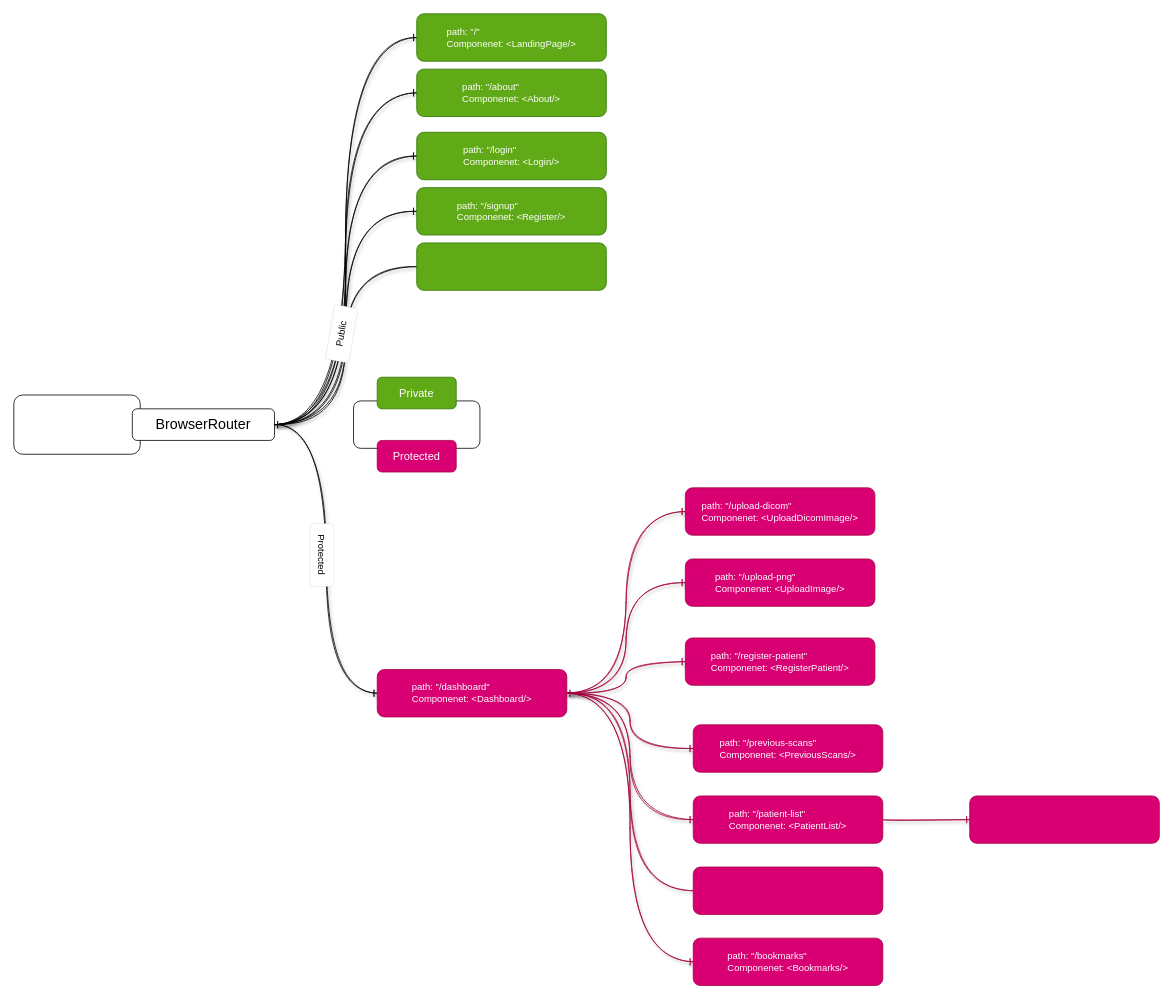
Image size: 1173x999. Some labels were removed from this diagram. Each missing label, with the centre of its shape:
Navigate: the point at 416,424
path: "*" Componenet: <NotFound/>: the point at 511,266
path: "/patient-list/:id" Componenet: <PatientDetails/>: the point at 1064,819
path: "/result" Componenet: <ImageResult/>: the point at 787,890
React App: the point at 76,424
